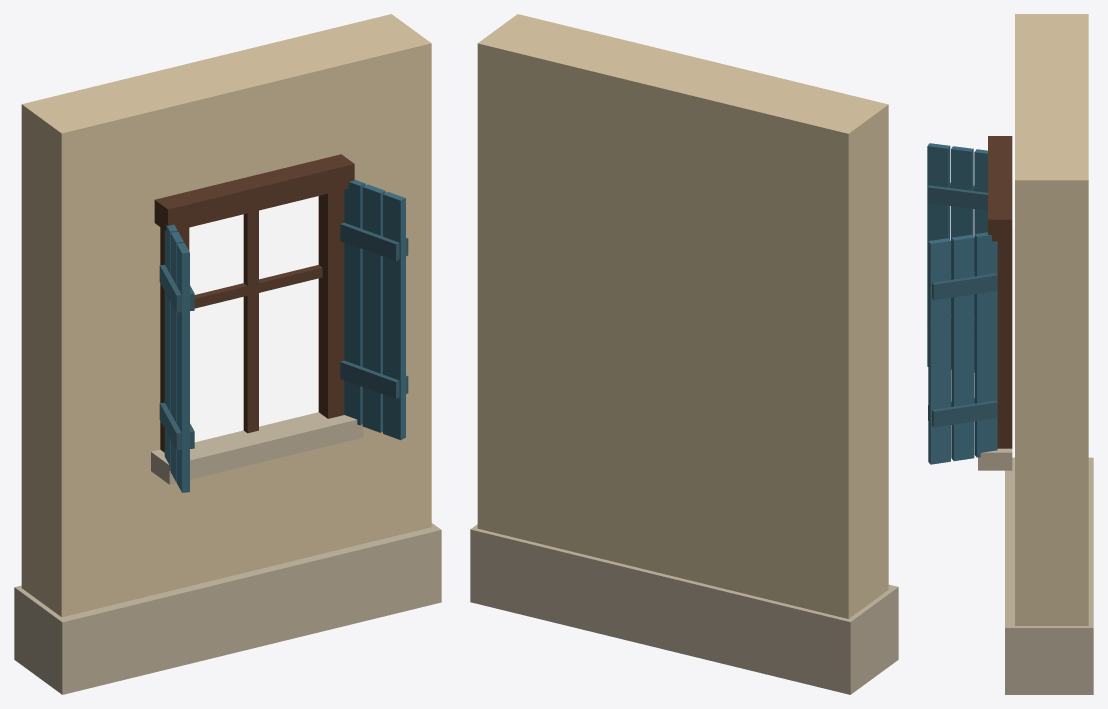
Rendered from ventana_encendida.glb.
The picture shows the model from 3 angles, left to right: view 1: azimuth 30°, elevation 25°; view 2: azimuth 150°, elevation 25°; view 3: azimuth 270°, elevation 25°; orthographic projection. The views are drawn at different scales.
Visible parts, largest first — view 1: ventana_encendida_fijo; view 2: ventana_encendida_fijo; view 3: ventana_encendida_fijo.
Boxes of the visible parts, x1,y1,x2,y2 form: ventana_encendida_fijo: (14,14,441,694); ventana_encendida_fijo: (470,14,898,694); ventana_encendida_fijo: (927,14,1093,694).
Size of the model in its own units: 1.64 by 2.3 by 0.6758.
